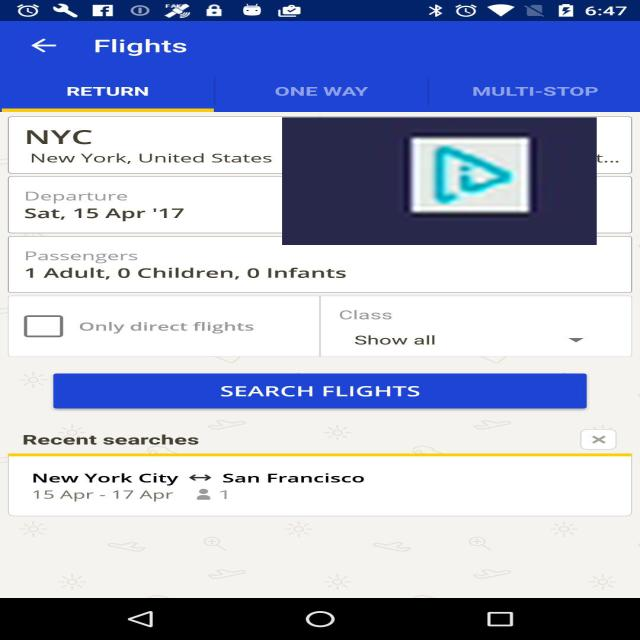sneaking: (282, 117, 597, 245)
